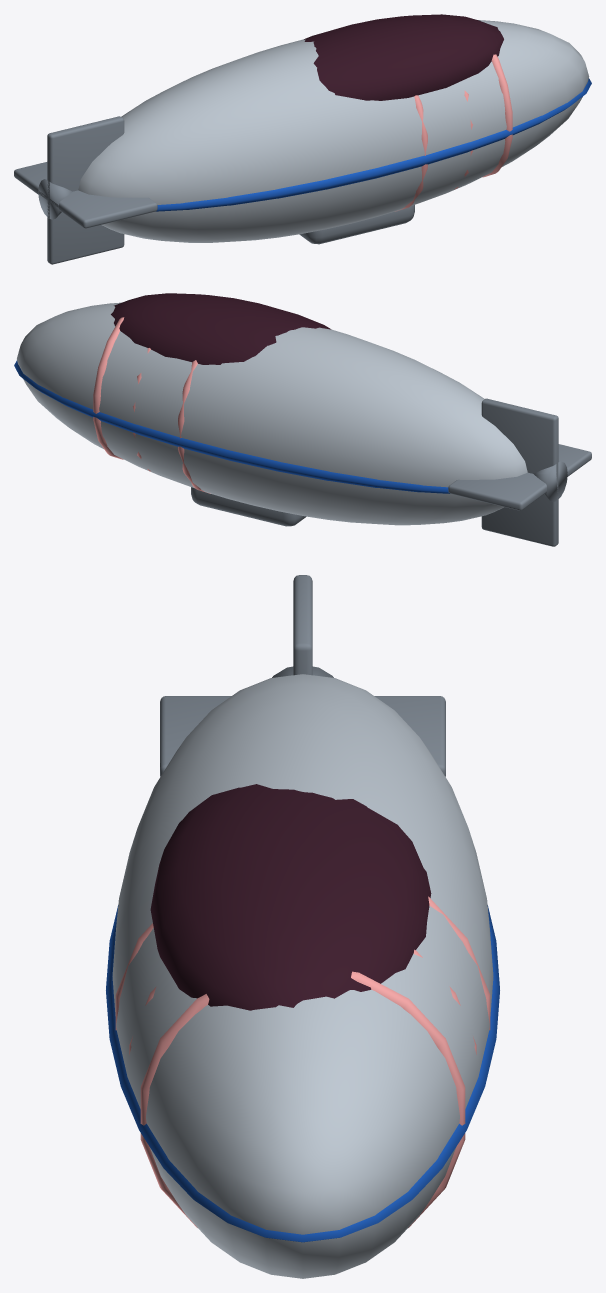
The model's file is airship.glb.
3 views of the same model, one above another, from view 1: azimuth 30°, elevation 25°; view 2: azimuth 150°, elevation 25°; view 3: azimuth 270°, elevation 25° (orthographic). The views are drawn at different scales.
Visible parts, largest first — view 1: Airship; view 2: Airship; view 3: Airship.
Boxes of the visible parts, x1,y1,x2,y2 form: Airship: [14, 14, 591, 264]; Airship: [14, 293, 591, 546]; Airship: [106, 575, 499, 1278].
Bounding box in the file's own units: 6.53 × 2.24 × 2.07.
